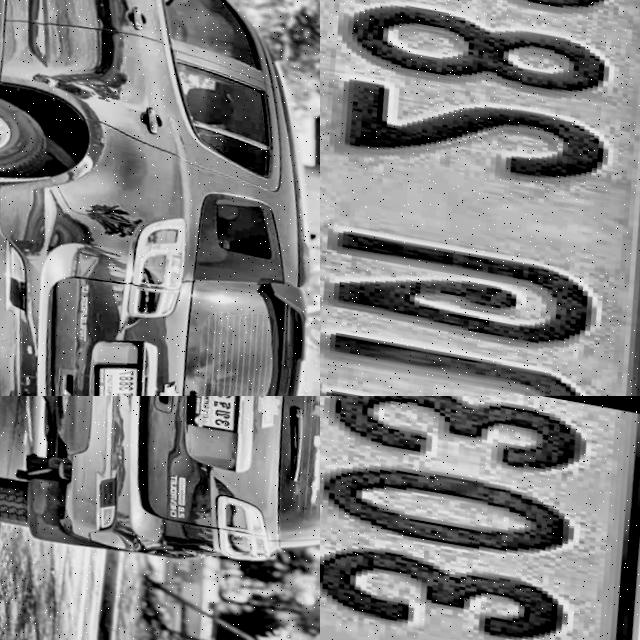license-plate: (320, 0, 640, 396), (320, 396, 640, 640), (173, 396, 240, 434), (75, 356, 134, 396)
